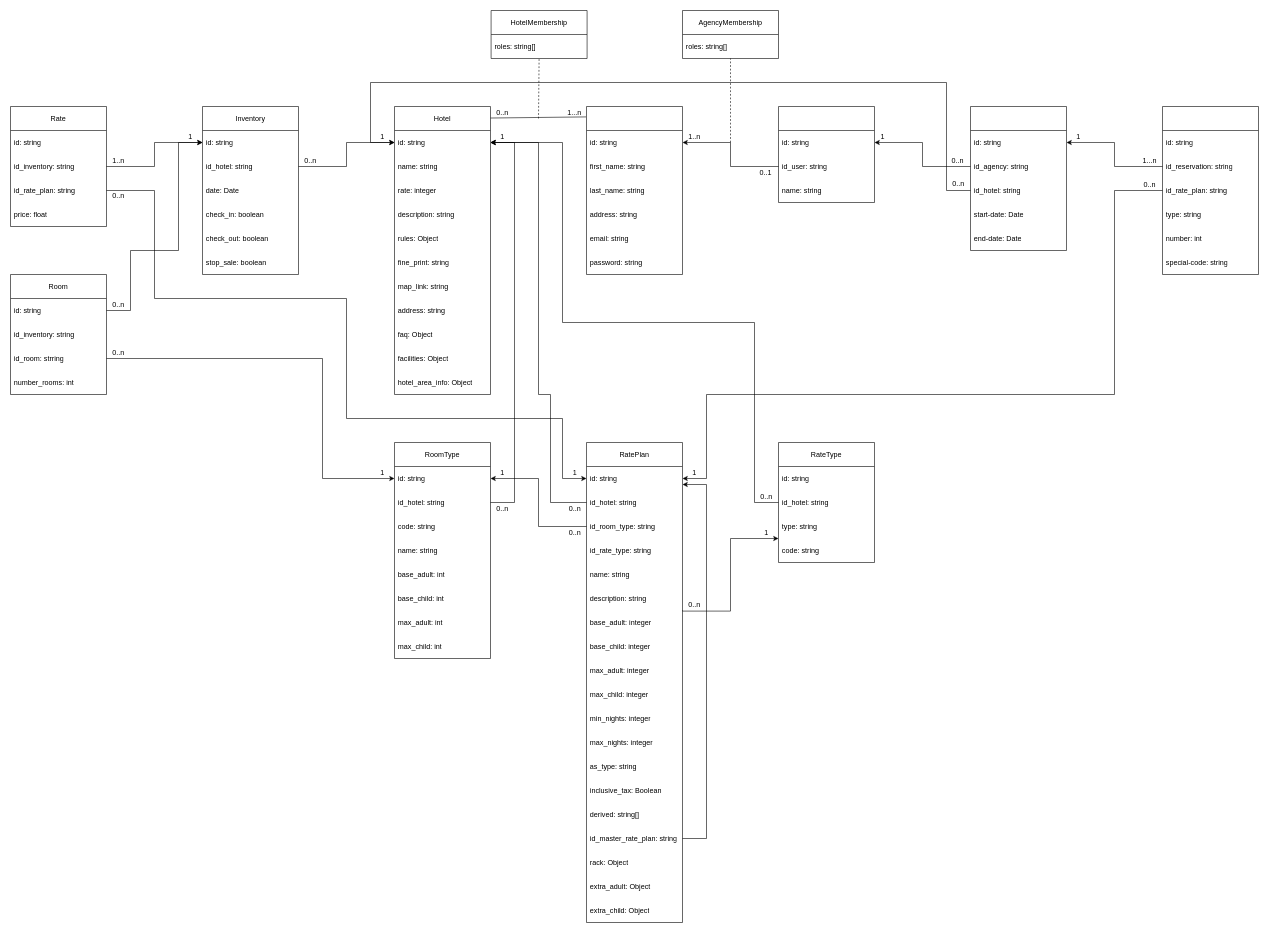
This 1269x933 diagram has some shape labels left out. The box of each missing label's shape, as (x1, y1, x2, y2) in pixels:
Agency: (778, 106, 874, 202)
Reservation: (970, 106, 1066, 250)
ReservationRates: (1162, 106, 1258, 274)
User: (586, 106, 682, 274)
